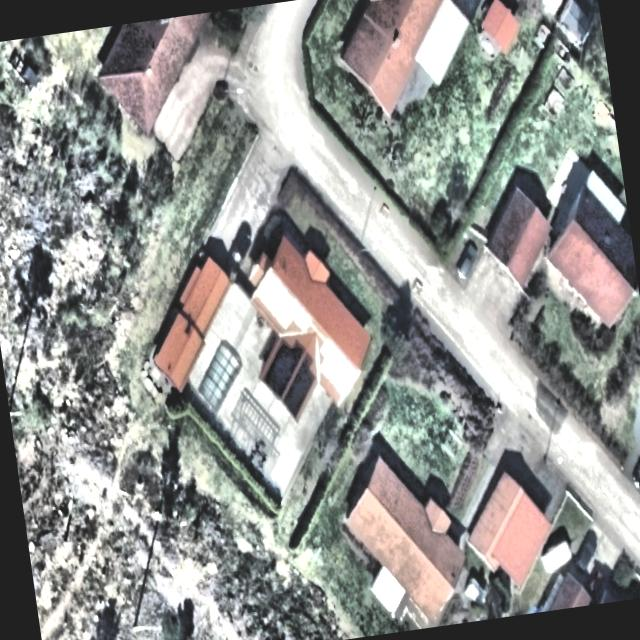roof_pv: (258, 327, 324, 422)
